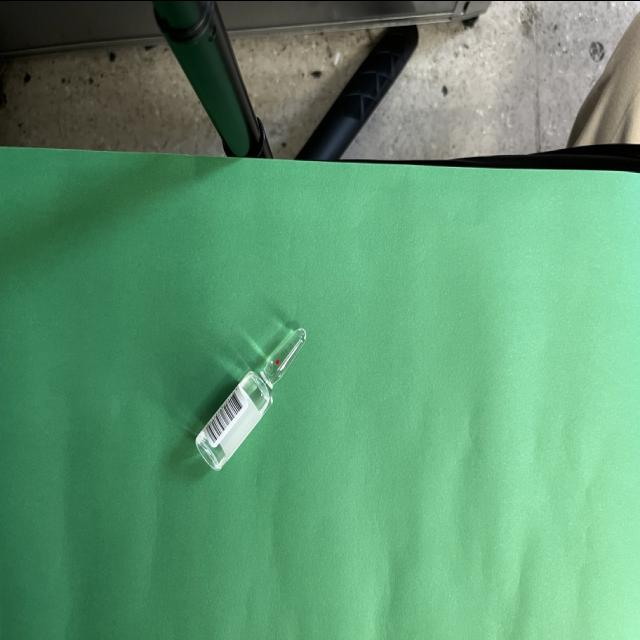Ampoules: (195, 327, 306, 469)
